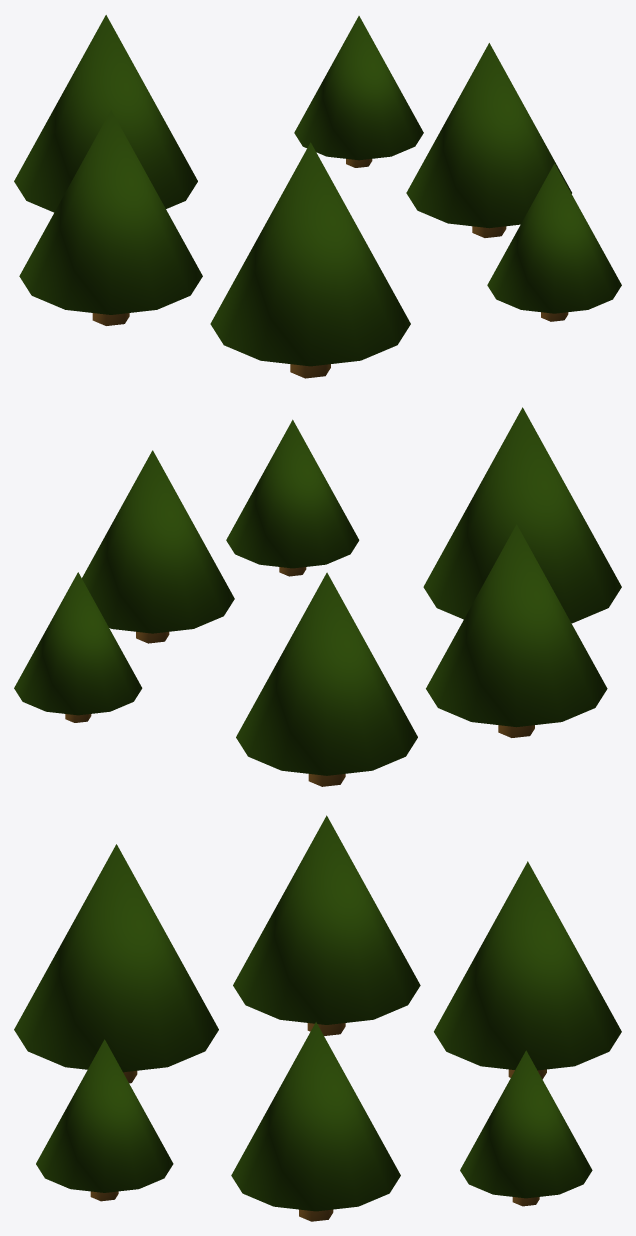
File: ConeTrees.fbx
3 views of the same model, one above another, from view 1: azimuth 30°, elevation 25°; view 2: azimuth 150°, elevation 25°; view 3: azimuth 270°, elevation 25° (orthographic). The views are drawn at different scales.
Parts seen in each view (by area): view 1: Cone Tree.001, Cone Tree.003, Cone Tree, Cone Tree.004, Cone Tree.002, Cone Tree.005; view 2: Cone Tree.004, Cone Tree.003, Cone Tree.001, Cone Tree, Cone Tree.002, Cone Tree.005; view 3: Cone Tree.001, Cone Tree.003, Cone Tree.004, Cone Tree, Cone Tree.002, Cone Tree.005.
Part boxes in pixels (box(x1,y1,x2,y2)): Cone Tree.001: box(210, 142, 410, 378); Cone Tree.003: box(19, 110, 202, 325); Cone Tree: box(406, 43, 571, 237); Cone Tree.004: box(14, 15, 197, 212); Cone Tree.002: box(487, 163, 621, 321); Cone Tree.005: box(294, 16, 423, 167); Cone Tree.004: box(236, 572, 417, 786); Cone Tree.003: box(426, 524, 607, 737); Cone Tree.001: box(423, 407, 621, 623); Cone Tree: box(82, 450, 234, 643); Cone Tree.002: box(226, 419, 359, 576); Cone Tree.005: box(14, 572, 142, 722); Cone Tree.001: box(14, 844, 218, 1083); Cone Tree.003: box(233, 815, 420, 1035); Cone Tree.004: box(434, 861, 621, 1079); Cone Tree: box(231, 1022, 400, 1221); Cone Tree.002: box(36, 1039, 173, 1201); Cone Tree.005: box(460, 1050, 592, 1206).
Size of the model in its own units: 81.1 by 33.66 by 79.64.
